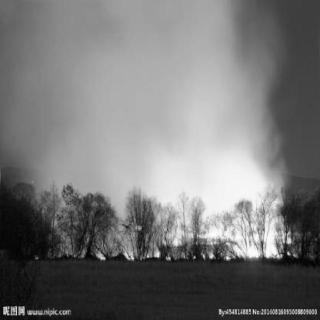Fire: (52, 167, 304, 270)
